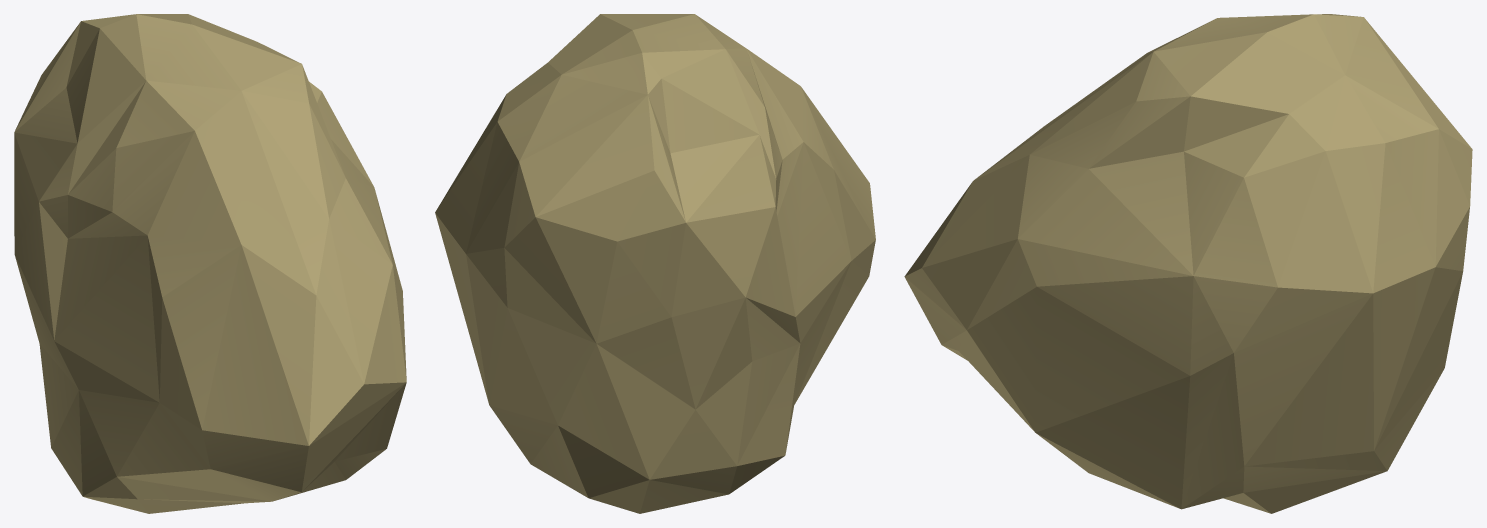
File: SM_rock_09.fbx
The picture shows the model from 3 angles, left to right: view 1: azimuth 30°, elevation 25°; view 2: azimuth 150°, elevation 25°; view 3: azimuth 270°, elevation 25°; orthographic projection. The views are drawn at different scales.
Parts seen in each view (by area): view 1: rock_09; view 2: rock_09; view 3: rock_09.
Boxes of the visible parts, bbox=[...] form: rock_09: bbox=[14, 14, 406, 513]; rock_09: bbox=[435, 14, 875, 513]; rock_09: bbox=[904, 14, 1472, 513].
Size of the model in its own units: 149 by 213 by 232.
